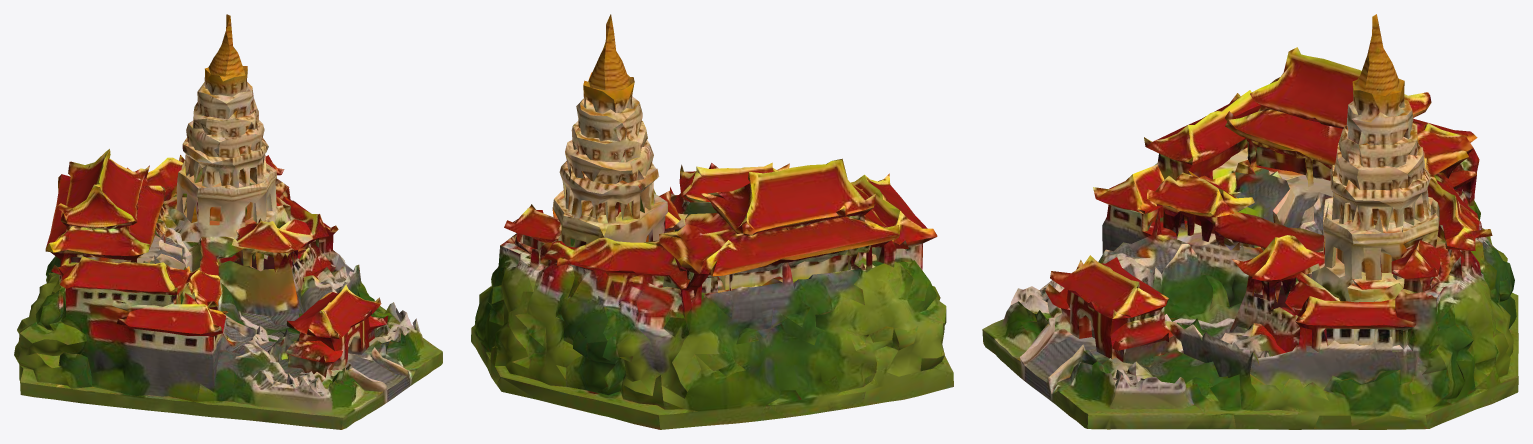
File: kek-lok-si.glb
3 views of the same model, side by side, from view 1: azimuth 30°, elevation 25°; view 2: azimuth 150°, elevation 25°; view 3: azimuth 270°, elevation 25° (orthographic). The views are drawn at different scales.
Parts seen in each view (by area): view 1: logan-textured.obj; view 2: logan-textured.obj; view 3: logan-textured.obj.
Boxes of the visible parts, x1,y1,x2,y2 form: logan-textured.obj: (14, 14, 442, 429); logan-textured.obj: (471, 14, 953, 429); logan-textured.obj: (982, 14, 1518, 429).
Size of the model in its own units: 0.9273 by 0.7338 by 1.
1 material, 1 textured.
